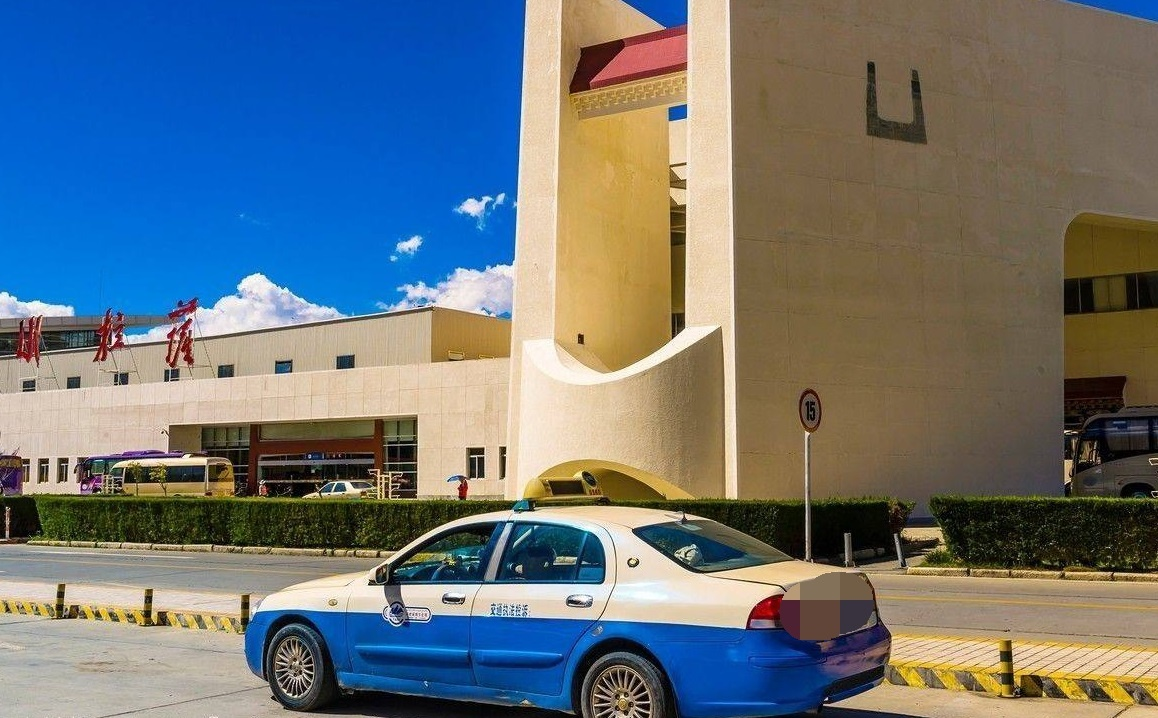bus: (99, 451, 248, 511)
taxi: (240, 483, 862, 718)
